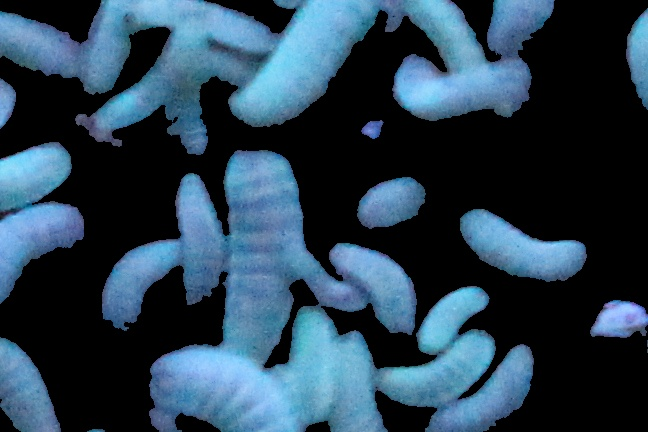larvae: (252, 1, 368, 122), (147, 345, 294, 432), (229, 167, 290, 351), (459, 203, 589, 279), (428, 340, 533, 432), (394, 59, 545, 120), (100, 237, 184, 339), (384, 330, 493, 402), (1, 208, 84, 297), (335, 242, 415, 334), (178, 175, 222, 330), (1, 11, 92, 81), (1, 335, 63, 432), (96, 1, 158, 95), (359, 175, 462, 228), (330, 329, 381, 432), (386, 1, 476, 57), (150, 2, 262, 42), (299, 251, 364, 316), (178, 32, 209, 157), (294, 320, 325, 432), (464, 1, 559, 37), (107, 73, 162, 128), (1, 150, 62, 197), (427, 299, 472, 346)
